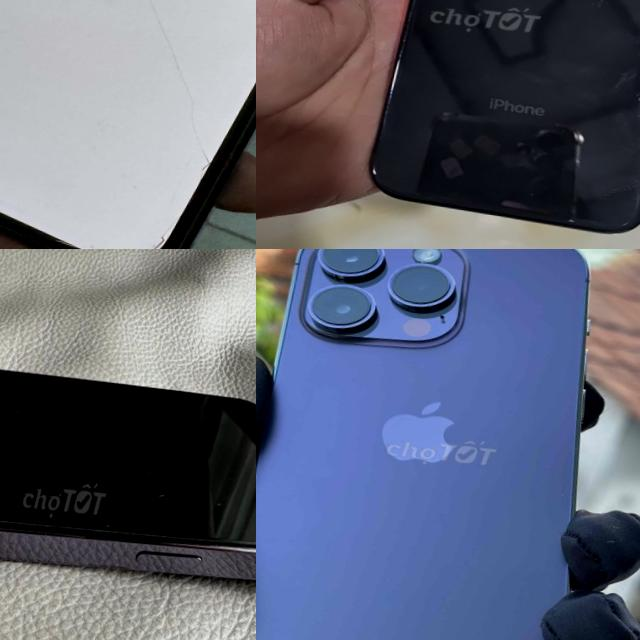gen_14: (256, 249, 620, 640), (0, 339, 256, 615)
gen_x_xs: (0, 0, 256, 249), (372, 0, 640, 231)
